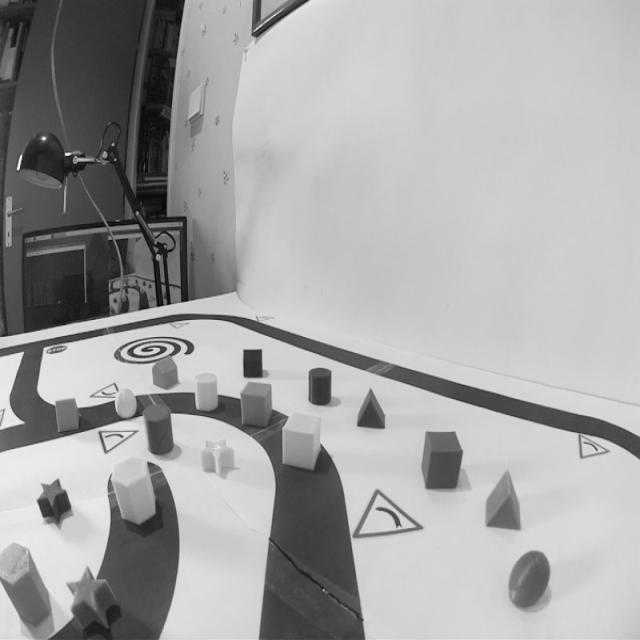ball: (505, 547, 555, 617), (113, 384, 139, 423)
cube: (417, 425, 466, 495), (279, 407, 325, 475), (237, 378, 276, 430)
cylinder: (141, 400, 177, 458), (192, 370, 222, 418), (307, 363, 334, 409)
hexagon: (0, 535, 54, 634), (110, 454, 159, 529)
home: (151, 355, 179, 392)
laneLeftTurn: (248, 432, 372, 640)
nest: (110, 332, 196, 370)
star: (64, 560, 122, 638), (35, 472, 74, 530), (198, 434, 237, 482)
triangle: (481, 467, 526, 537), (353, 386, 389, 432), (52, 394, 82, 436)
